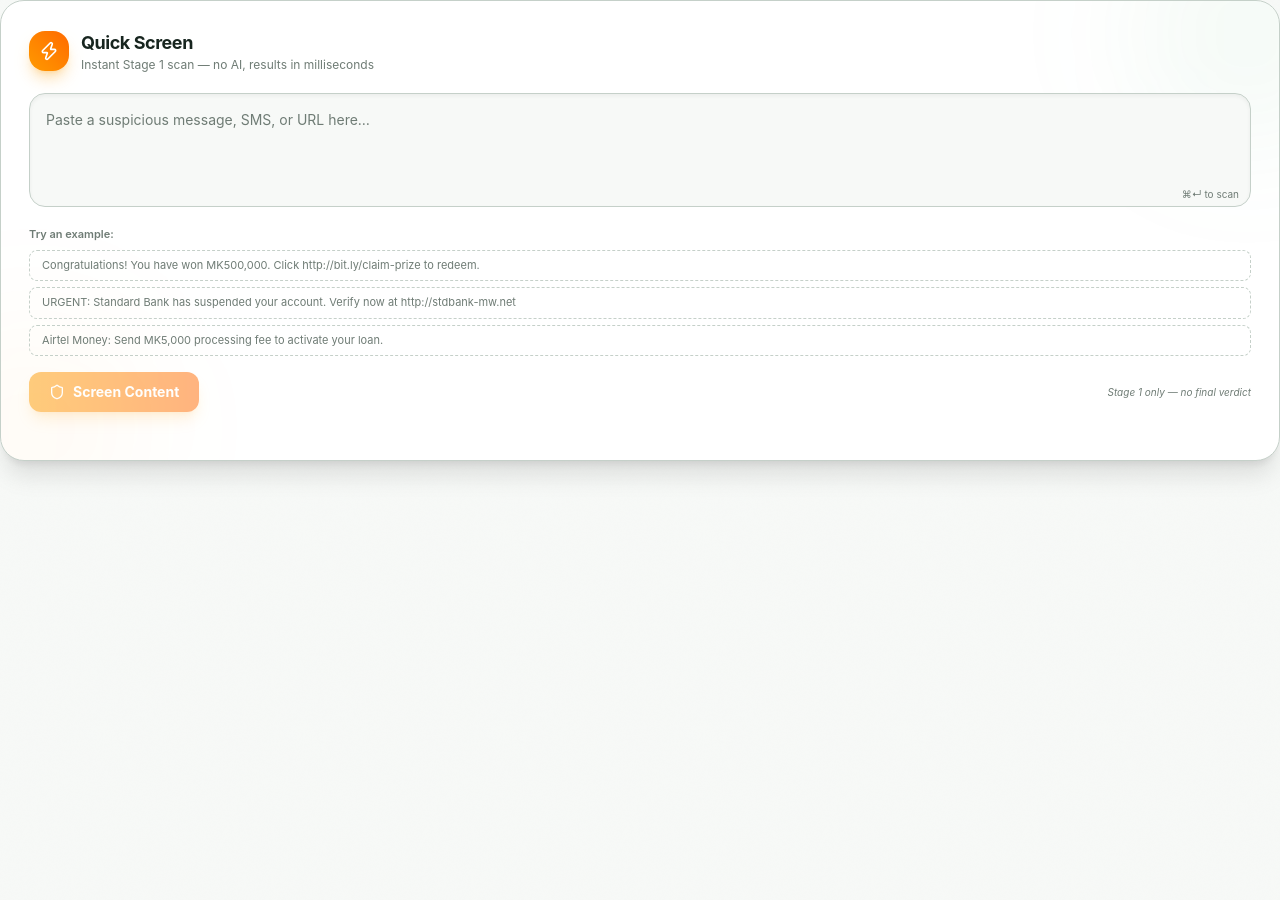
Test case: QuickScreenWidget › hides example messages after text is entered
In the text box with placeholder "Paste a suspicious message, SMS, or URL here…": (640, 150) top-left (29, 93), bottom-right (1251, 207), type "Some content"
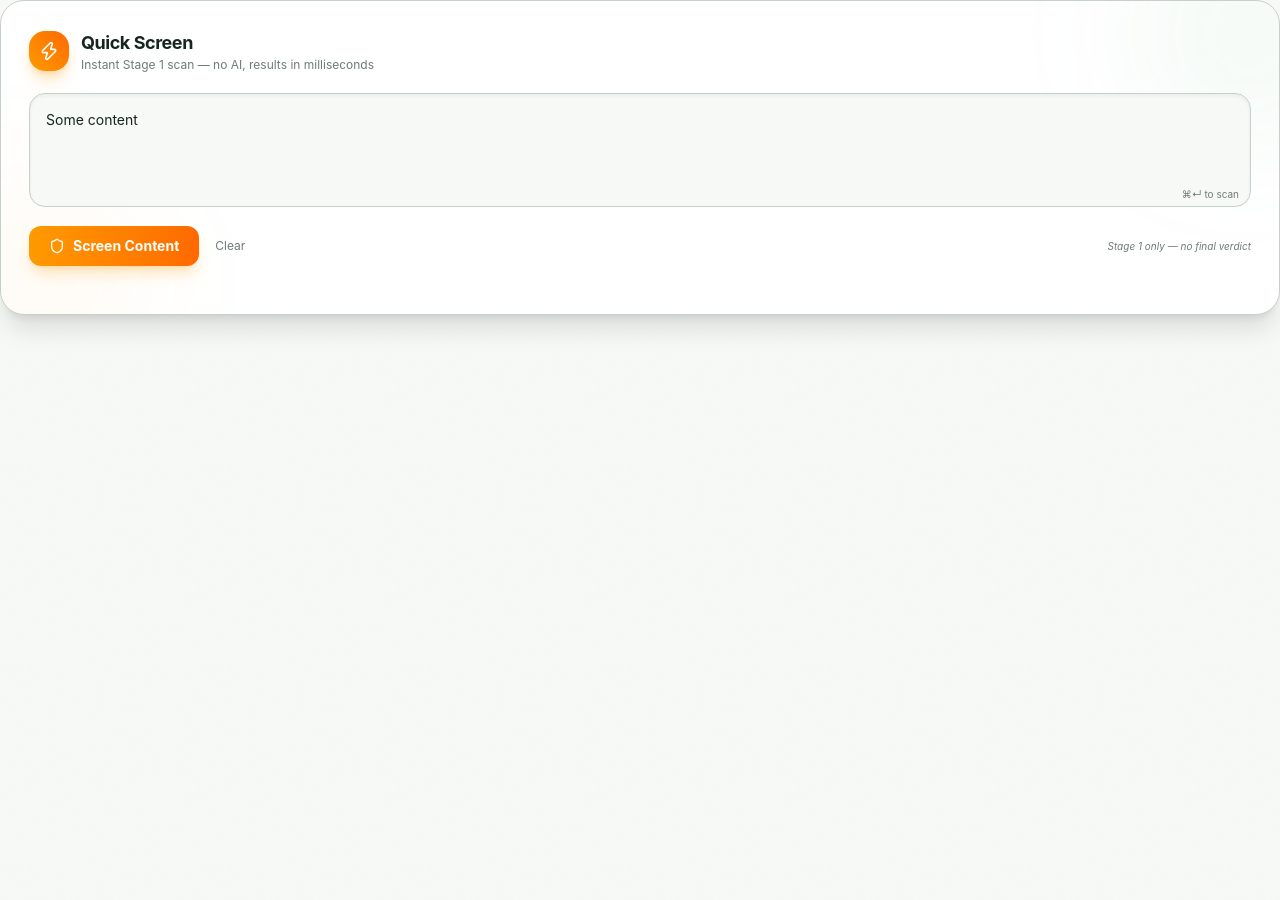
Expected: the text "Try an example:" is gone
